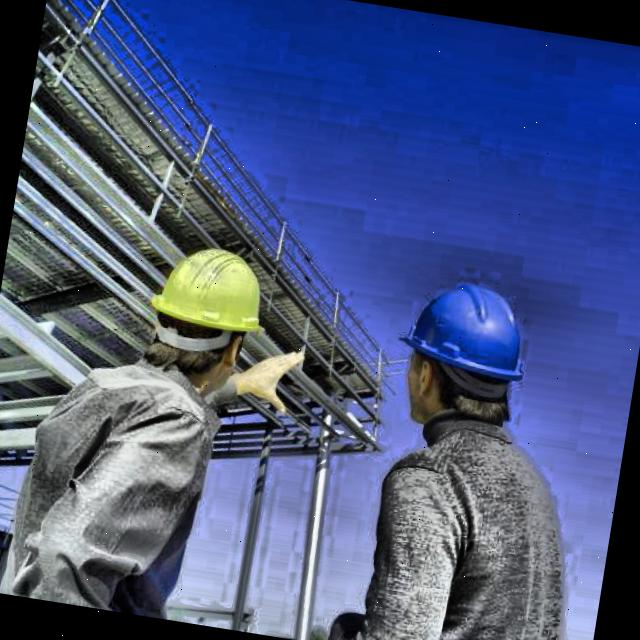helmet: (383, 269, 541, 443), (138, 222, 278, 396)
